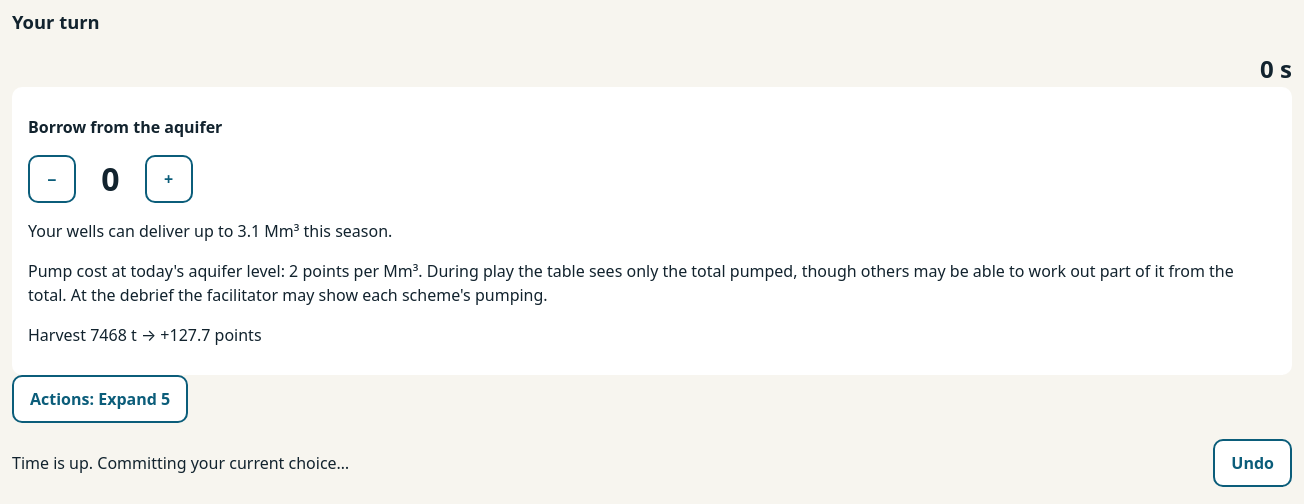
S6 private turn › after an undo once time is up, a commit by hand is shown as the player's, not the timer's
The image size is (1304, 504).
Step 1. Click the button "Undo" → (1253, 463), box [1213, 439, 1292, 487]
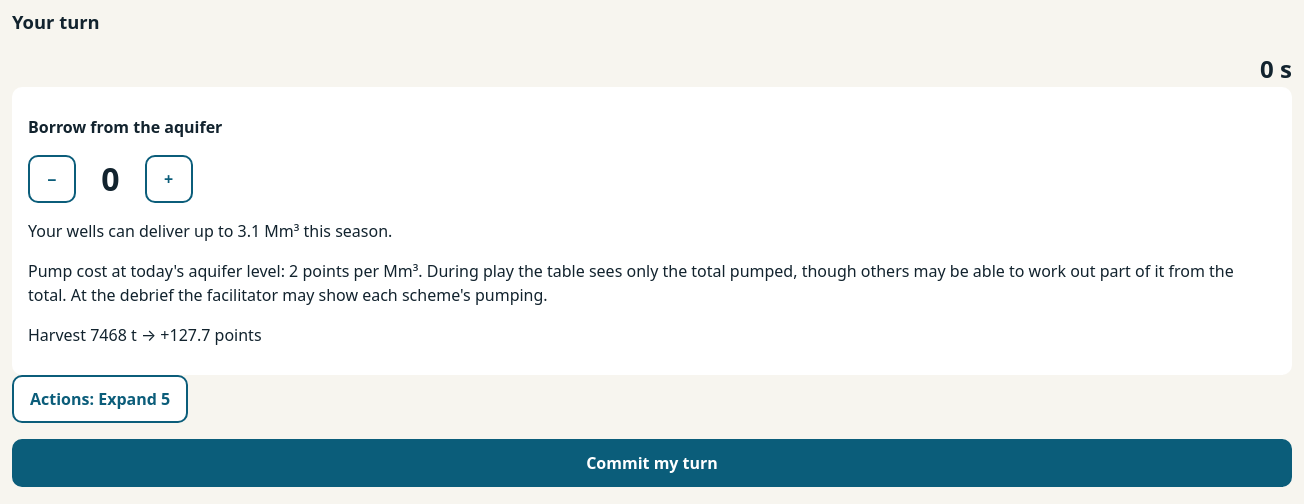
Step 2. Click the button "Commit my turn" → (652, 463), box [12, 439, 1292, 487]
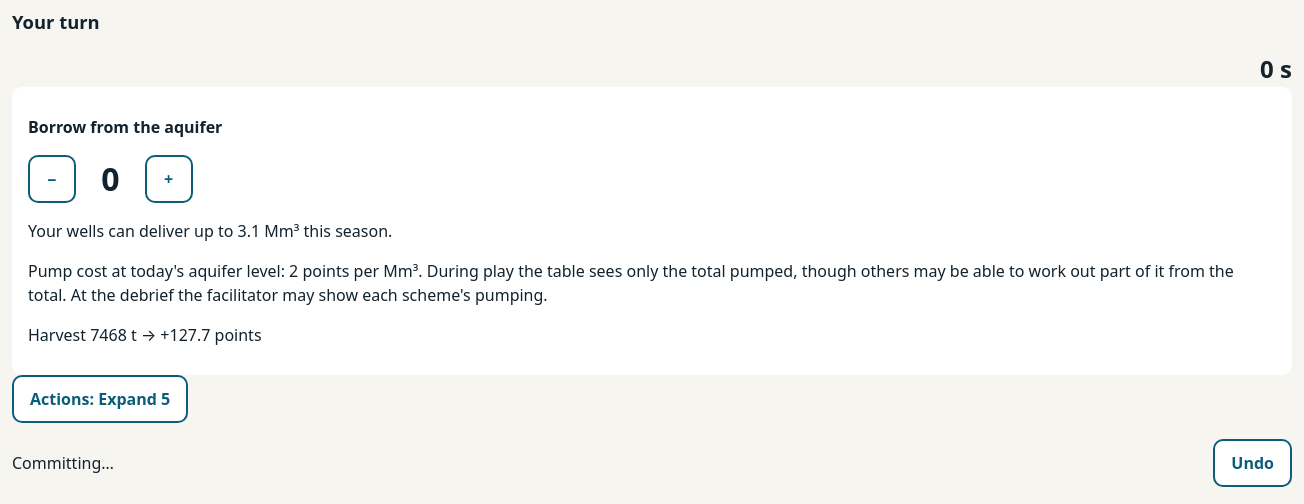
Expected: the text "Time is up" is not shown
Expected: the text "Committing… Undo" is shown, [12, 439, 1292, 487]
